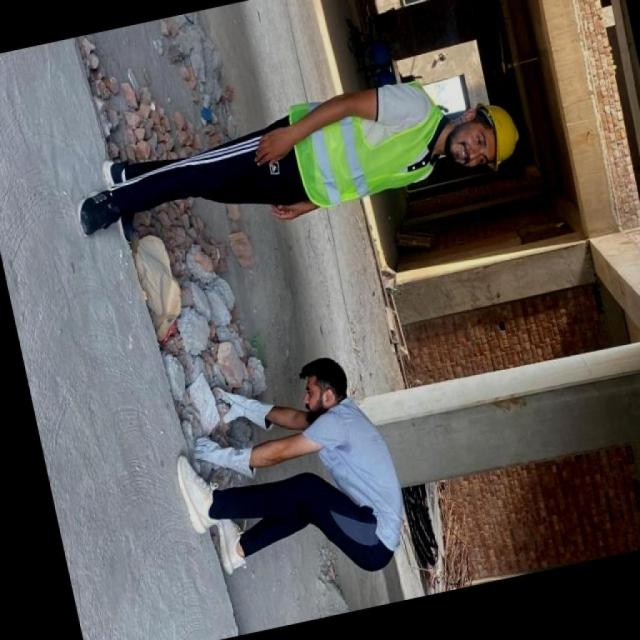Gloves-Detection: (192, 436, 263, 476), (210, 384, 274, 423)
